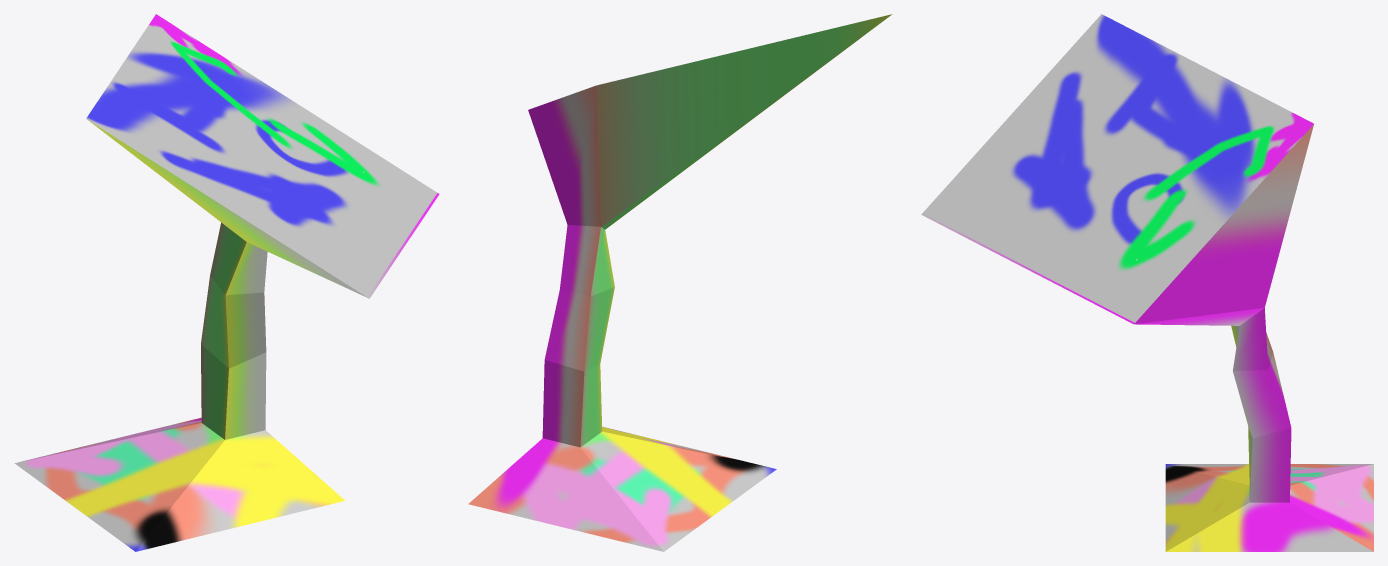
The model's file is stick.glb.
The picture shows the model from 3 angles, left to right: view 1: azimuth 30°, elevation 25°; view 2: azimuth 150°, elevation 25°; view 3: azimuth 270°, elevation 25°; orthographic projection. The views are drawn at different scales.
Visible parts, largest first — view 1: Cube; view 2: Cube; view 3: Cube.
Part boxes in pixels (box(x1,y1,x2,y2)): Cube: box(14, 14, 439, 551); Cube: box(468, 14, 892, 551); Cube: box(921, 14, 1373, 551).
Size of the model in its own units: 5.7 by 7.05 by 7.
1 material, 1 textured.
